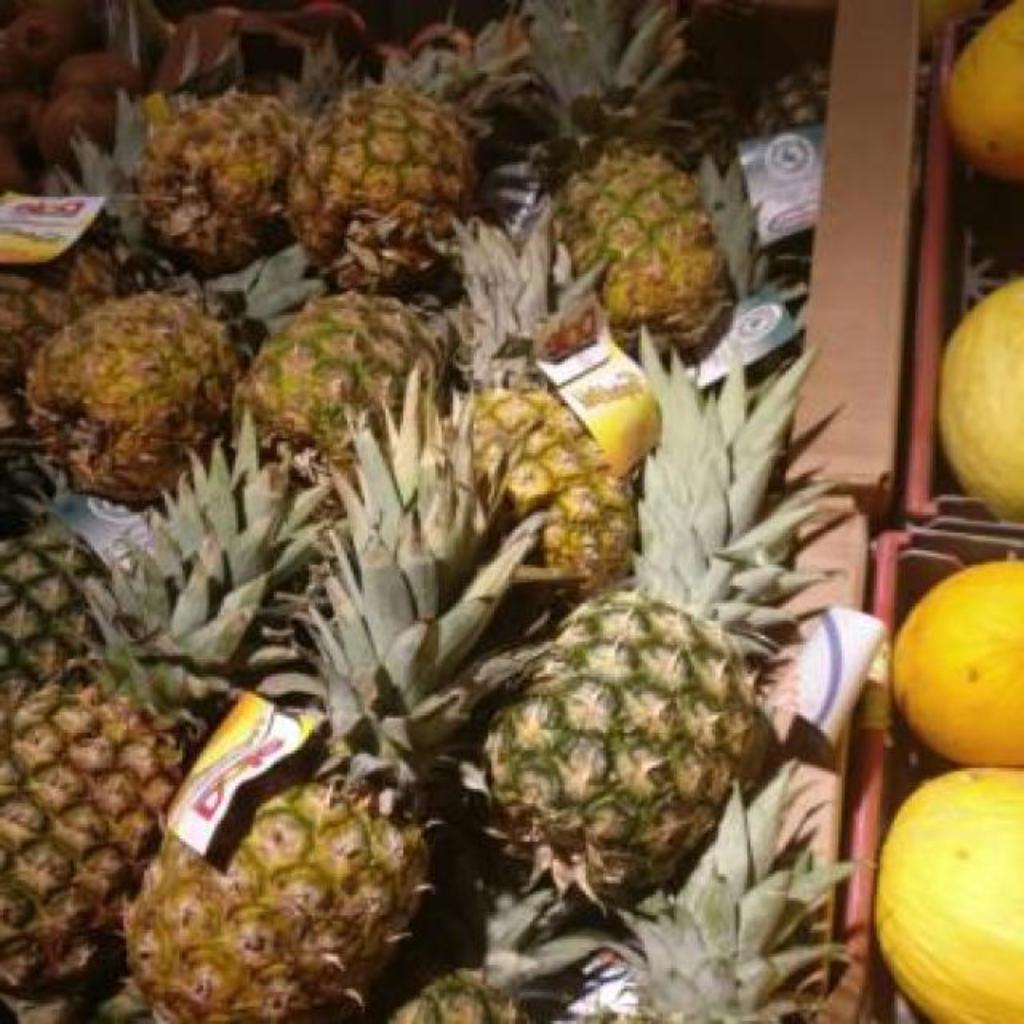pineapple: (130, 382, 542, 1024), (492, 339, 820, 905), (0, 426, 316, 975), (26, 244, 324, 505), (527, 0, 732, 355), (288, 18, 554, 289), (458, 209, 634, 589), (146, 32, 352, 275), (236, 258, 462, 467), (0, 434, 100, 683)
